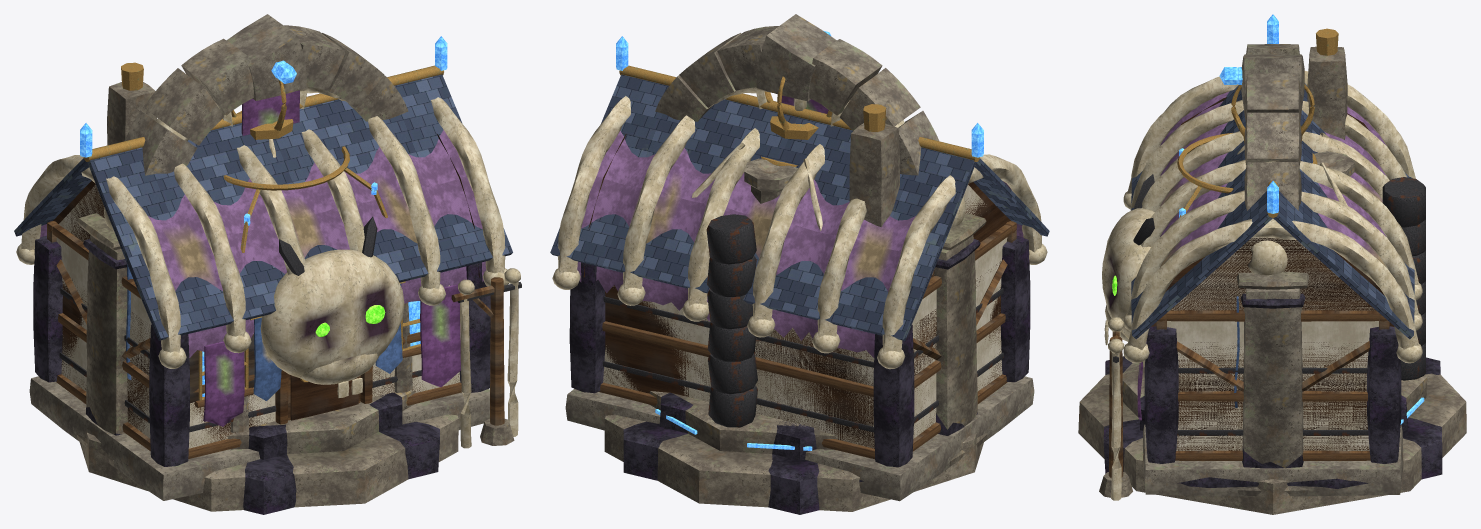
File: bases_kit.glb
3 views of the same model, side by side, from view 1: azimuth 30°, elevation 25°; view 2: azimuth 150°, elevation 25°; view 3: azimuth 270°, elevation 25° (orthographic). The views are drawn at different scales.
Parts seen in each view (by area): view 1: G_Barracks, D_Barracks, D_Gate, D_Heart, G_Heart, G_Gate, D_Spire; view 2: G_Barracks, D_Barracks, D_Gate, G_Heart, D_Heart, G_Gate, D_Spire; view 3: G_Barracks, D_Barracks, D_Gate, D_Heart, G_Heart, G_Gate, D_Spire.
Part boxes in pixels (bbox=[...]): G_Barracks: bbox=[16, 97, 521, 466]; D_Barracks: bbox=[14, 36, 514, 500]; D_Gate: bbox=[76, 14, 408, 466]; D_Heart: bbox=[79, 146, 458, 511]; G_Heart: bbox=[243, 392, 439, 514]; G_Gate: bbox=[83, 87, 345, 435]; D_Spire: bbox=[231, 80, 293, 139]; G_Barracks: bbox=[552, 96, 1047, 482]; D_Barracks: bbox=[550, 36, 1049, 501]; D_Gate: bbox=[655, 14, 987, 466]; G_Heart: bbox=[623, 142, 822, 514]; D_Heart: bbox=[604, 156, 983, 511]; G_Gate: bbox=[713, 87, 980, 435]; D_Spire: bbox=[764, 76, 832, 139]; G_Barracks: bbox=[1102, 71, 1422, 500]; D_Barracks: bbox=[1099, 14, 1414, 497]; D_Gate: bbox=[1219, 44, 1309, 496]; D_Heart: bbox=[1078, 132, 1466, 514]; G_Heart: bbox=[1103, 132, 1442, 479]; G_Gate: bbox=[1240, 161, 1305, 468]; D_Spire: bbox=[1231, 84, 1314, 143].
Bounding box in the file's own units: 7.14 × 8.32 × 6.8.
13 materials, 13 textured.
